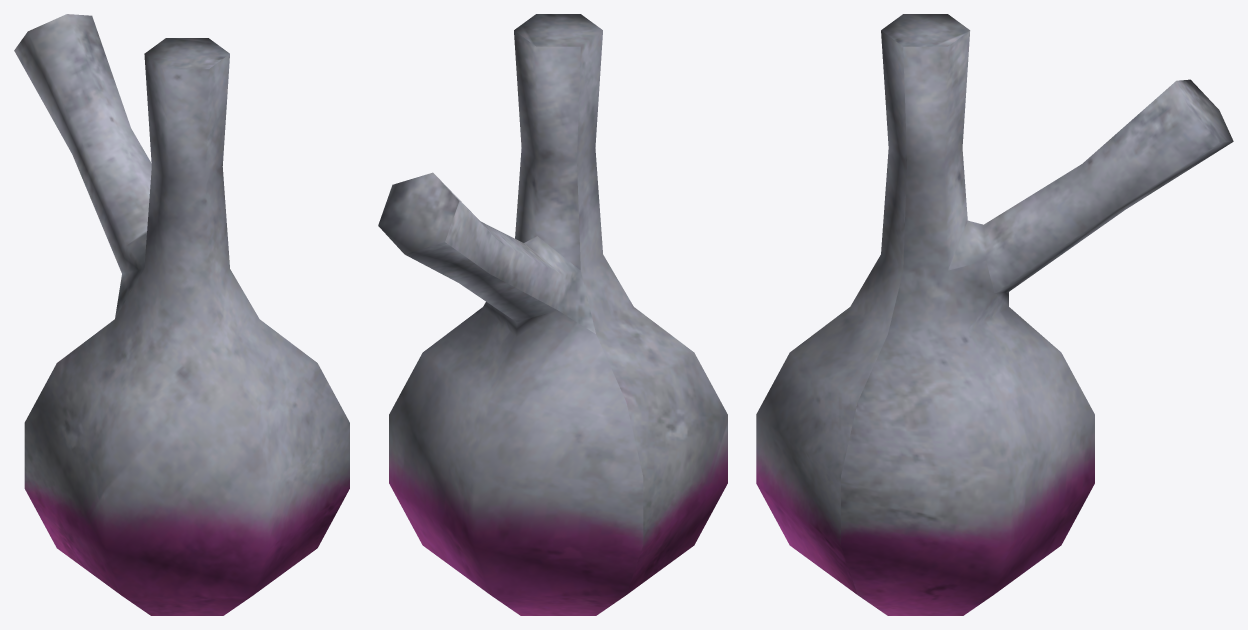
File: acid_machine_bottle04.dae
The picture shows the model from 3 angles, left to right: view 1: azimuth 30°, elevation 25°; view 2: azimuth 150°, elevation 25°; view 3: azimuth 270°, elevation 25°; orthographic projection. The views are drawn at different scales.
Visible parts, largest first — view 1: acid_machine_bottle04; view 2: acid_machine_bottle04; view 3: acid_machine_bottle04.
Part boxes in pixels (x1,y1,x2,y2): acid_machine_bottle04: (14,14,349,615); acid_machine_bottle04: (378,14,727,615); acid_machine_bottle04: (756,14,1233,615).
Bounding box in the file's own units: 0.2038 × 0.3317 × 0.4379.
1 material, 1 textured.
